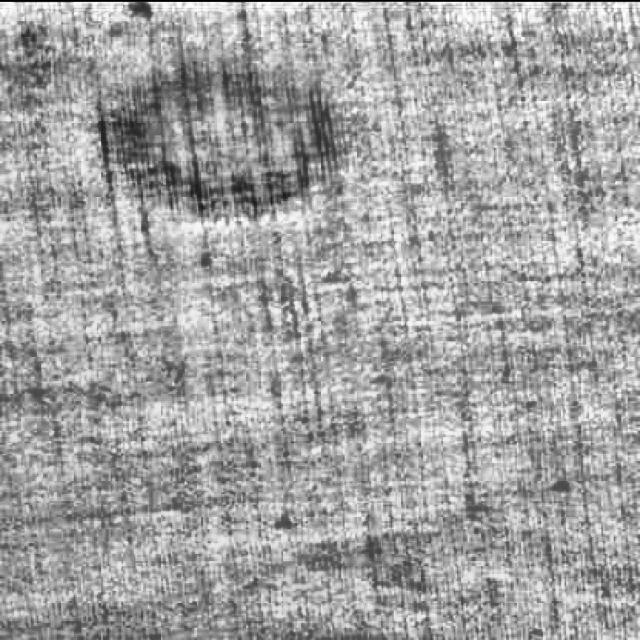oil_spot: (72, 43, 358, 232)
